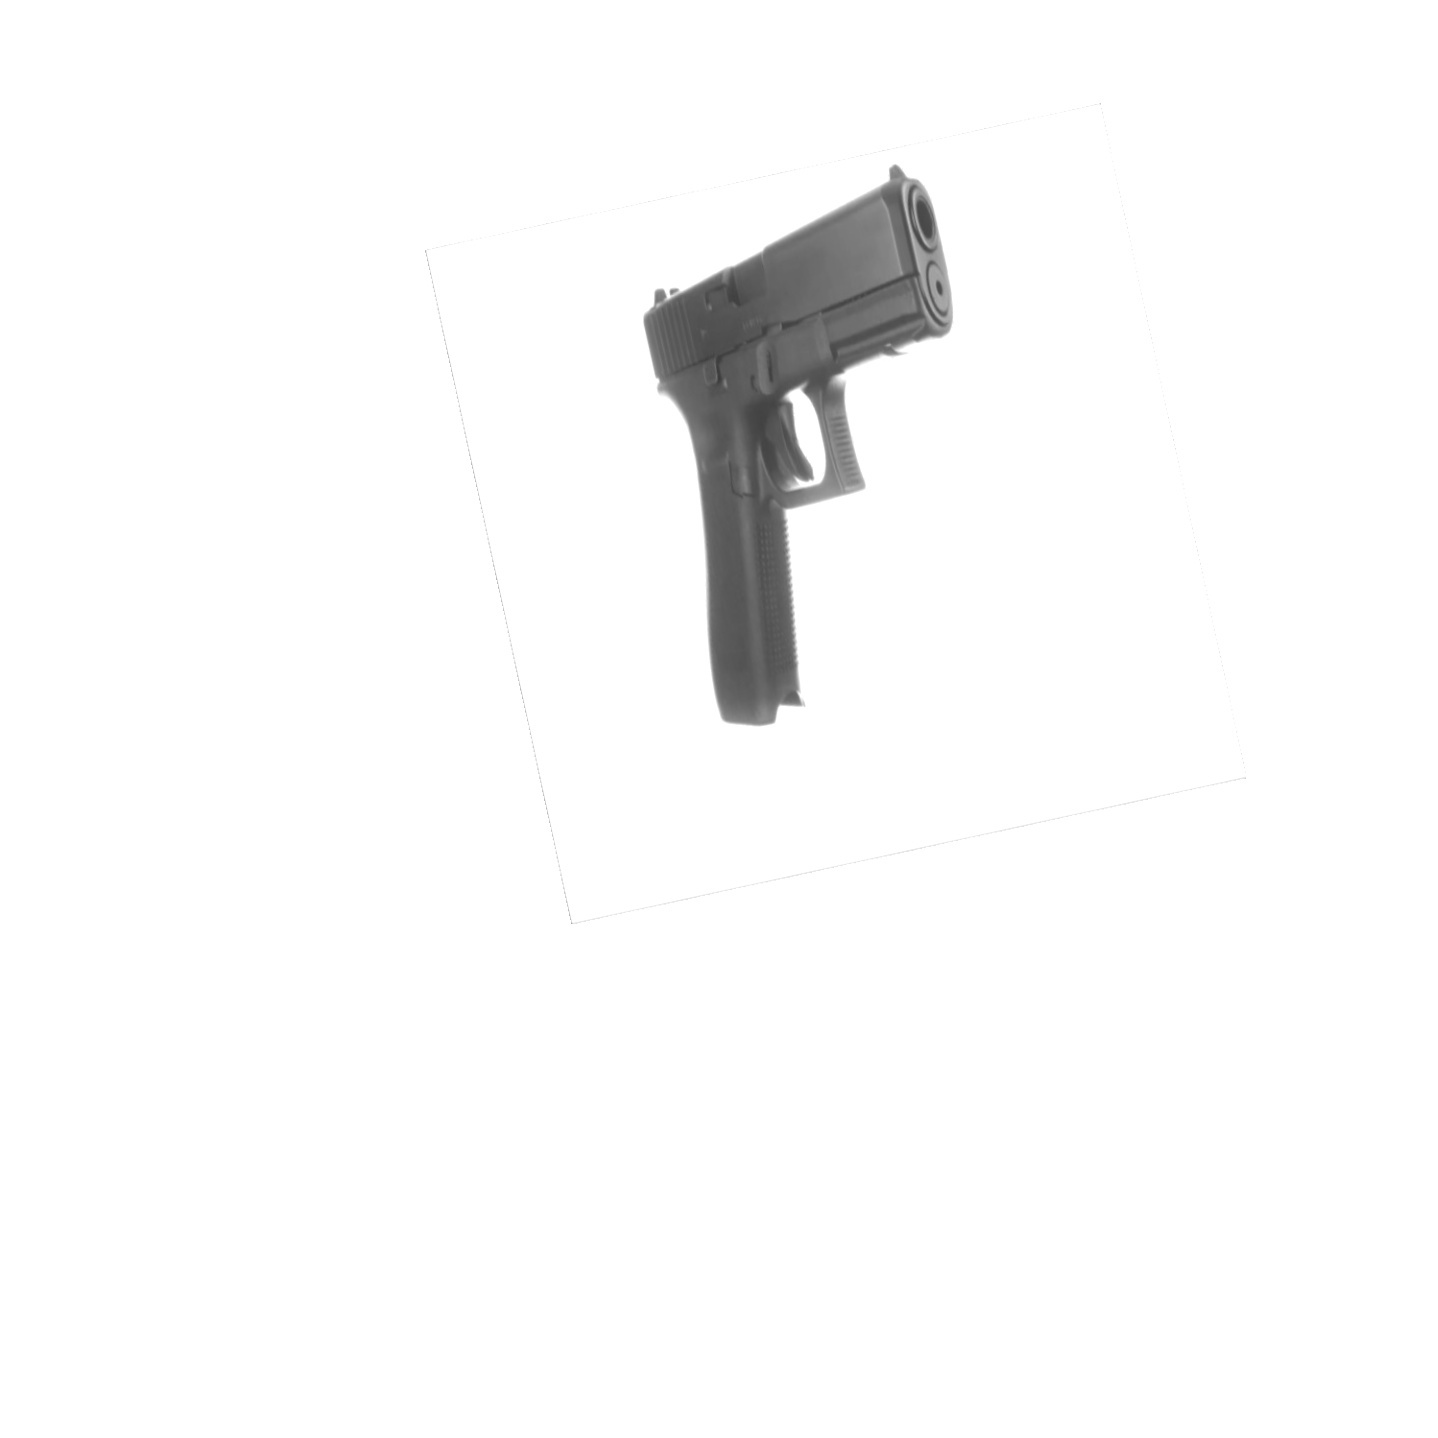gun: (632, 151, 960, 732)
